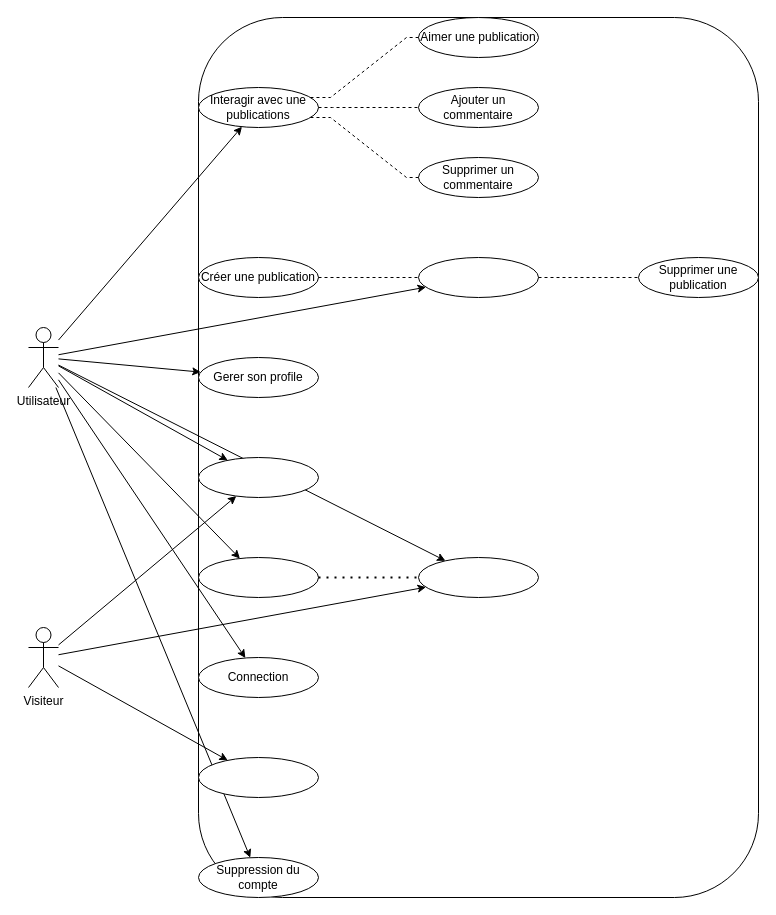
Some shapes in this 776 by 915 pixel diagram are drawn without their labels. The centre of each missing label's shape, as x and y in pixels:
Gerer une publication: (478,277)
Inscription: (258,777)
Rechercher dans "Mon Bar": (258,577)
Rechercher dans la galerie: (478,577)
Visiter la galerie: (258,477)
